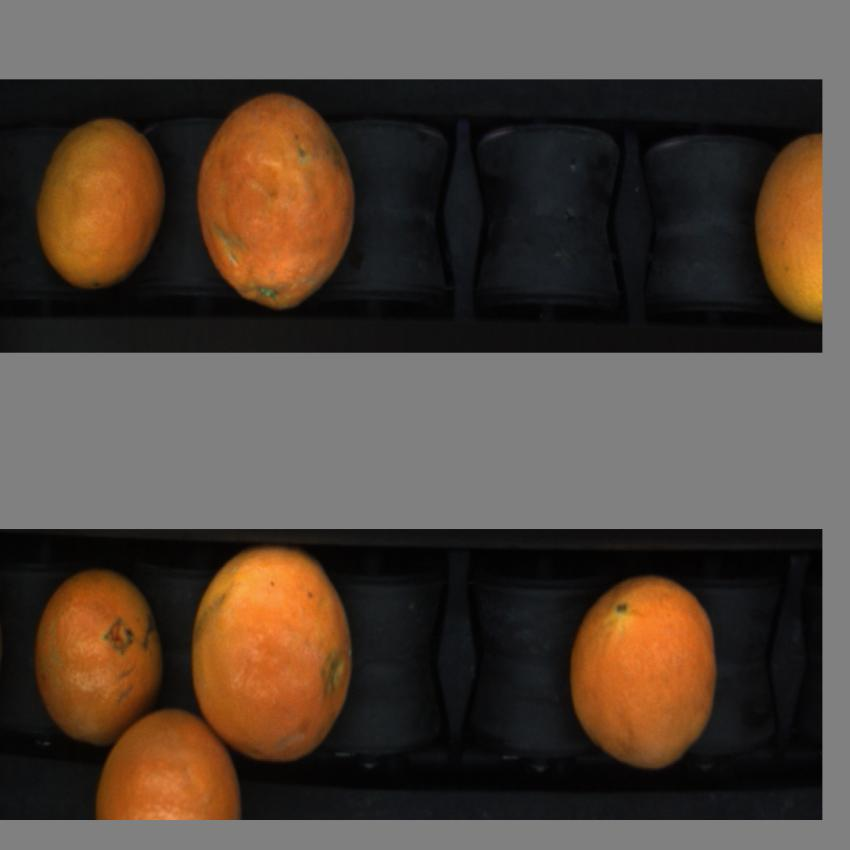Buen estado: (187, 542, 358, 775), (193, 94, 359, 302), (568, 570, 722, 773), (34, 568, 167, 747), (36, 114, 166, 288), (96, 705, 239, 829), (747, 118, 824, 327)
